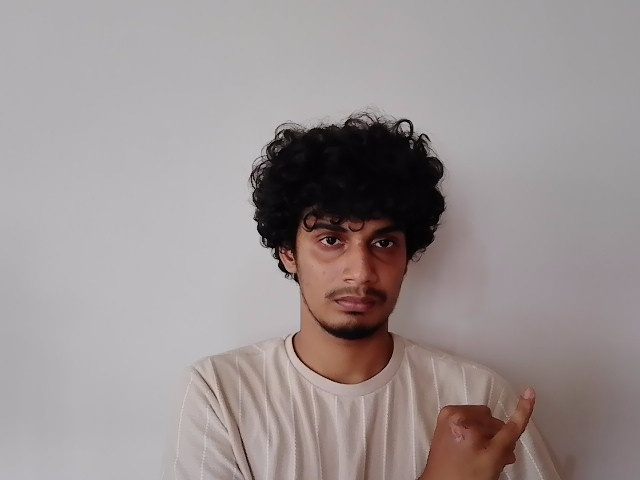bad: (427, 388, 540, 480)
